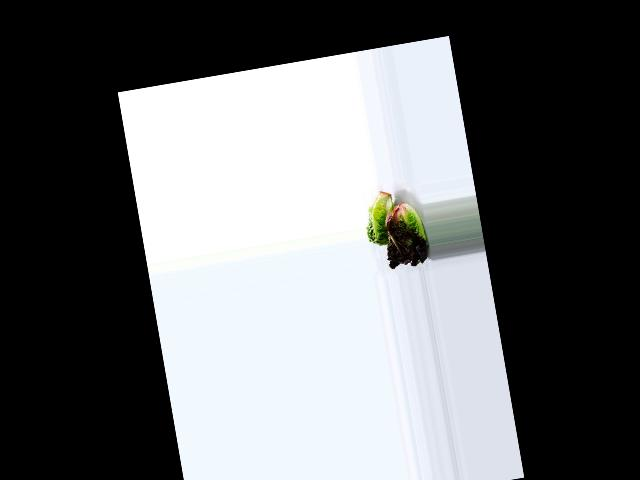lettuce: (359, 187, 401, 248)
